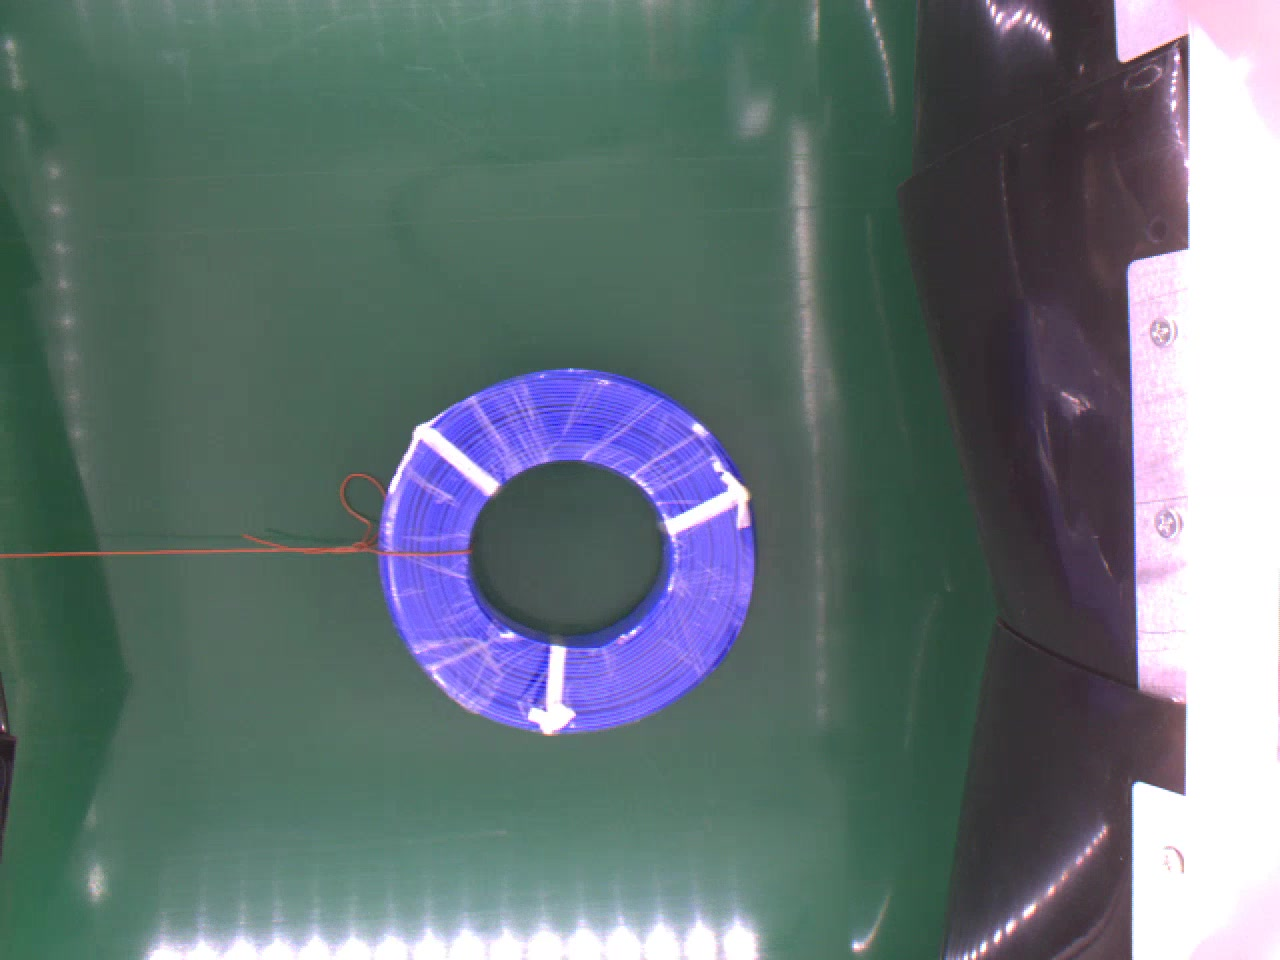blue: (375, 365, 756, 734)
